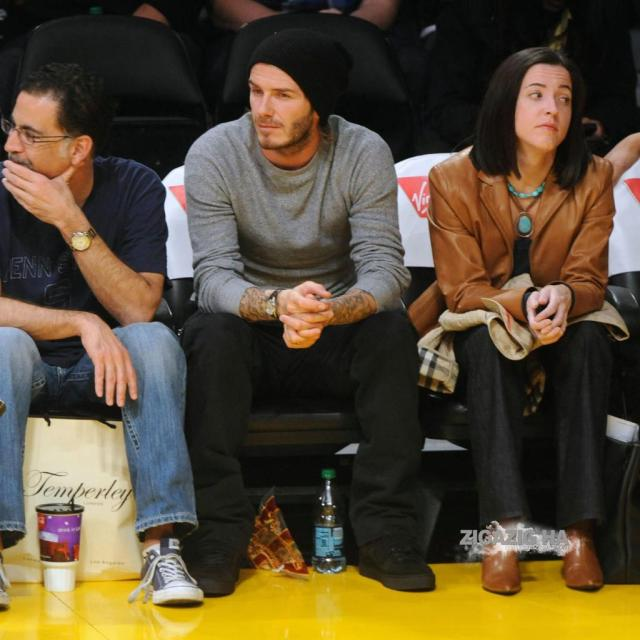Face: (514, 66, 581, 153), (9, 97, 64, 193), (249, 71, 309, 156)
